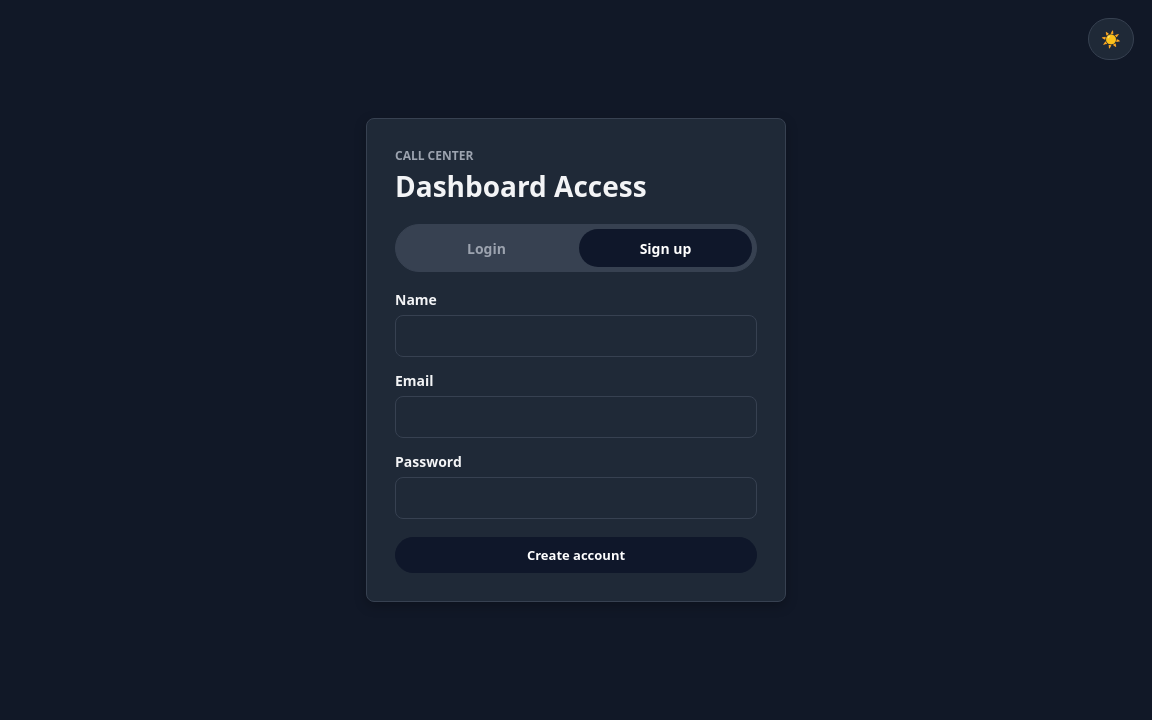
Test case: App auth gate › signs up through the backend auth API, enters the dashboard, and starts the timer
Type "Alex Agent" into the field labelled "Name". click: (576, 336)
box: x1=395 y1=315 x2=757 y2=357
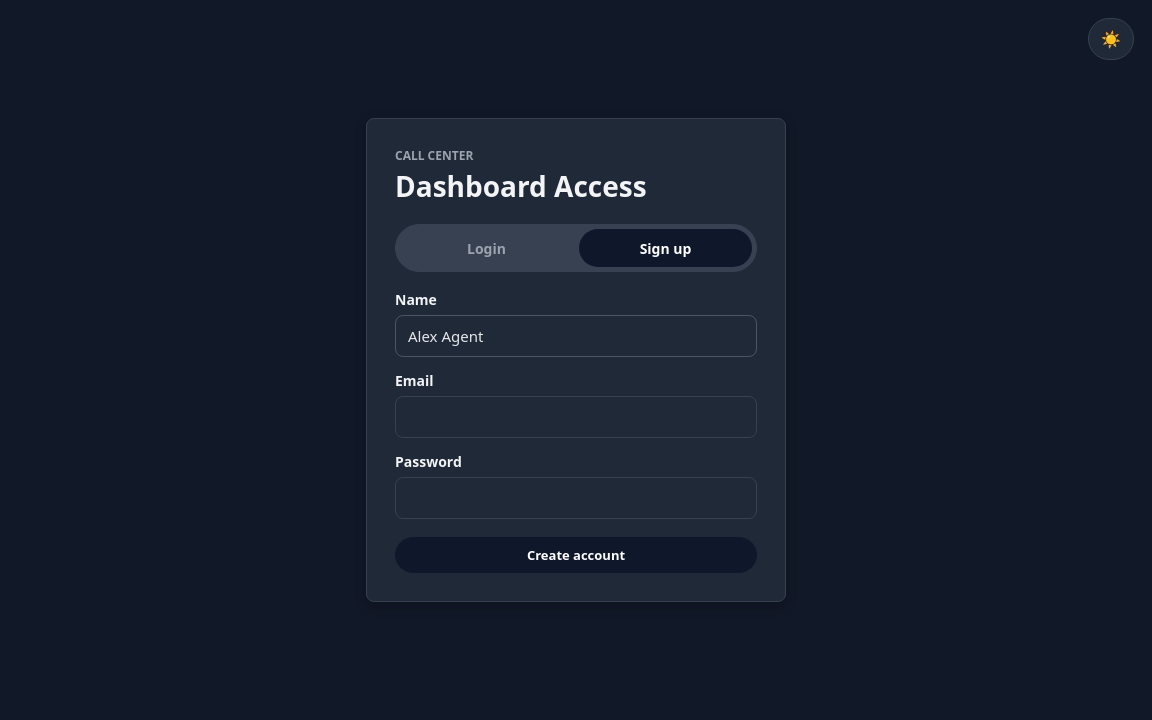
Type "alex@example.com" into the field labelled "Email". click: (576, 417)
box: x1=395 y1=396 x2=757 y2=438
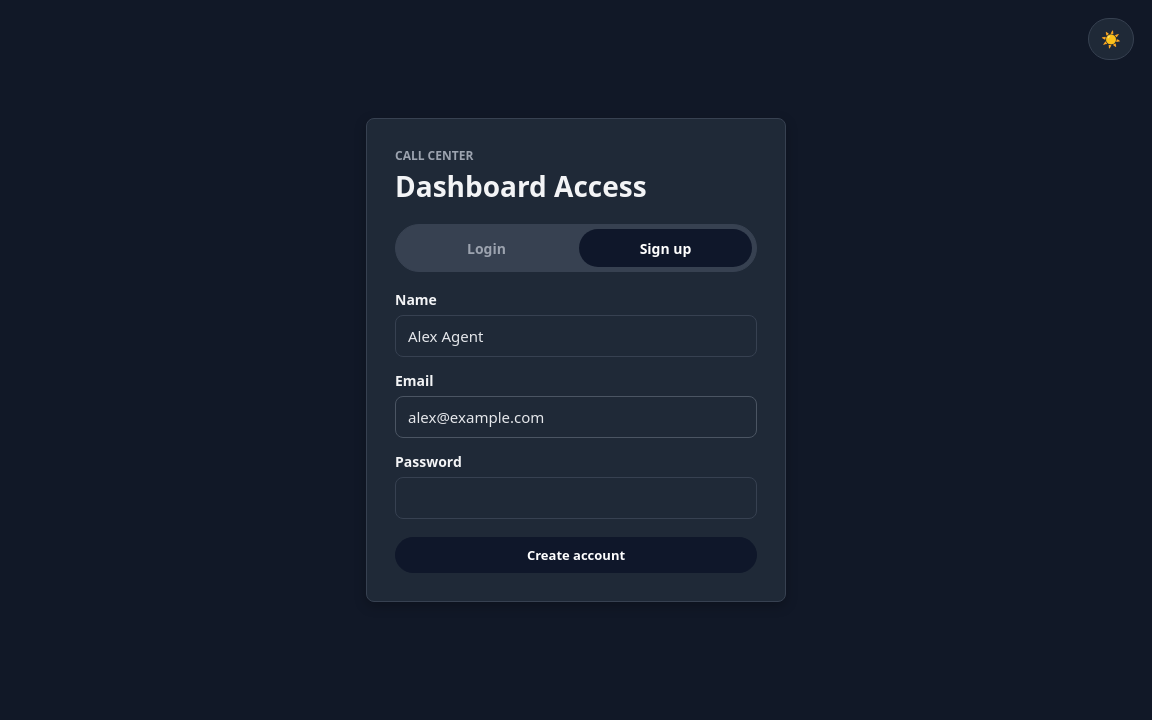
Type "password123" into the password field labelled "Password". click: (576, 498)
box: x1=395 y1=477 x2=757 y2=519
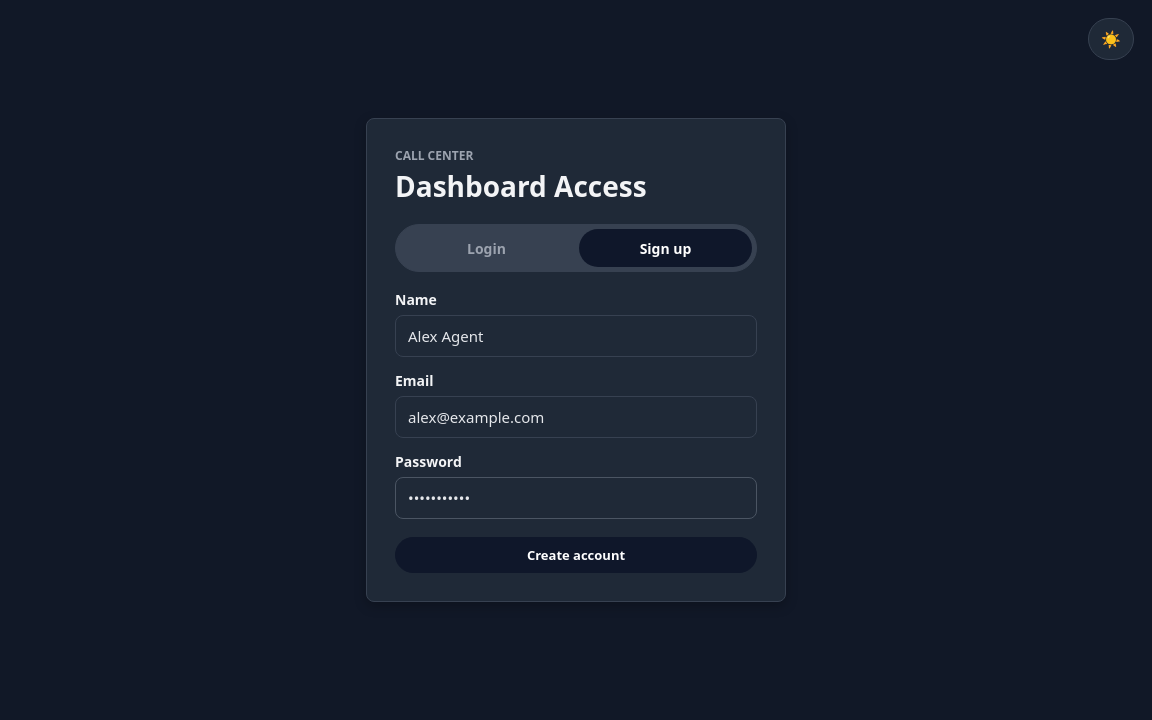
Click the button "Create account". click: (576, 555)
box: x1=395 y1=537 x2=757 y2=573
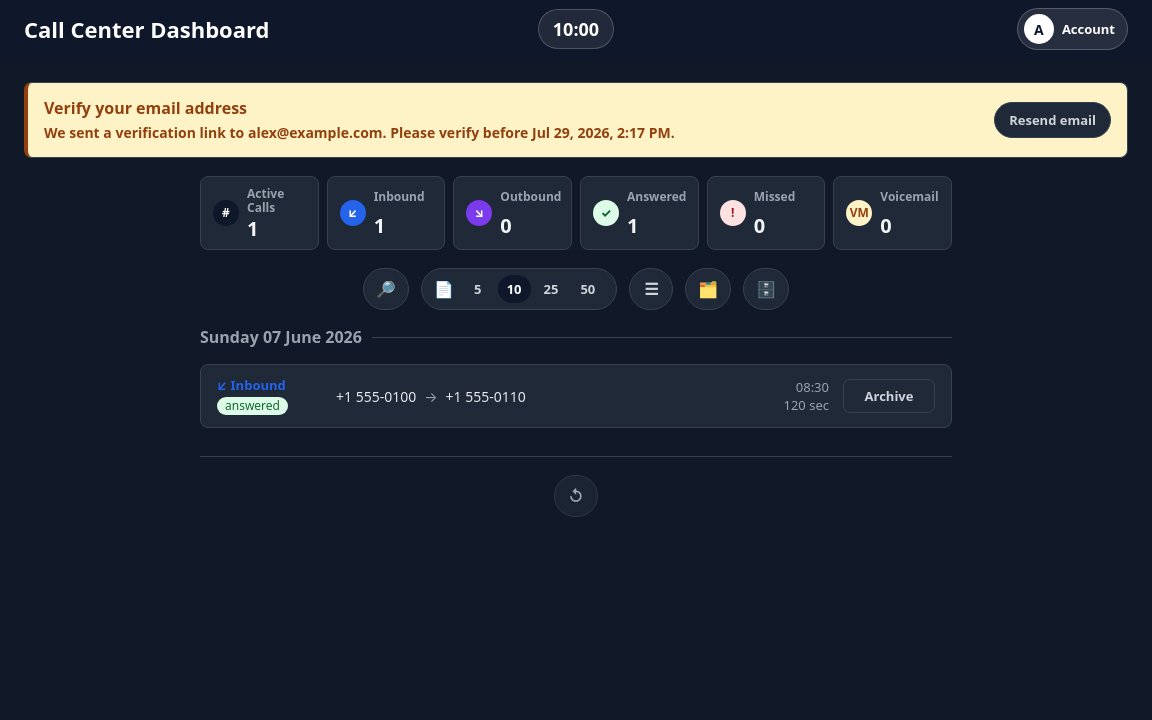
Check: the text "+1 555-0100" is shown, box x1=336 y1=387 x2=416 y2=406
Click the button with aria-label "Open account settings". click: (1072, 29)
box: x1=1017 y1=8 x2=1128 y2=50
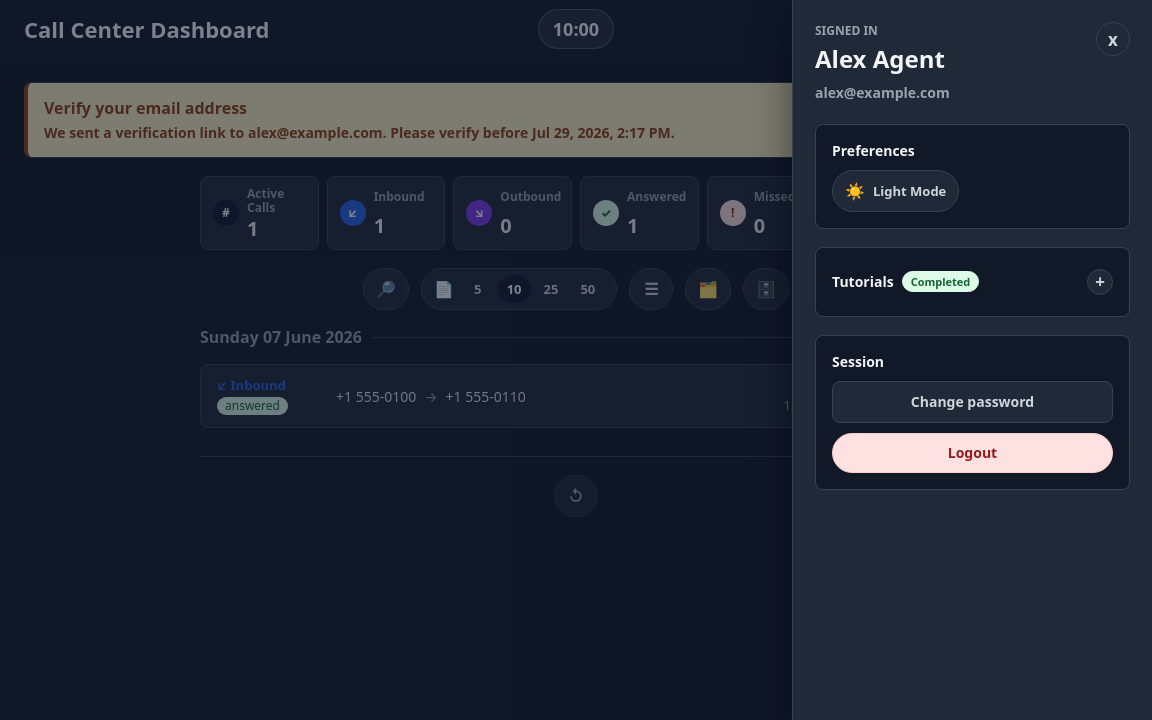
Check: the element named "Session time remaining" reads "10:00", box x1=553 y1=17 x2=599 y2=41
Check: the dialog "Alex Agent" is shown, box x1=792 y1=0 x2=1151 y2=719
Check: the text "alex@example.com" is shown, box x1=815 y1=83 x2=950 y2=102
